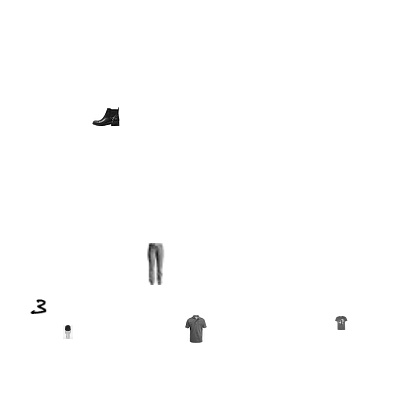3: (29, 296, 51, 318)
Ankle_boot: (92, 103, 120, 131)
Shirt: (61, 325, 75, 339)
T-shirt/top: (182, 315, 210, 343), (334, 316, 348, 330)
Trouser: (134, 243, 176, 285)
